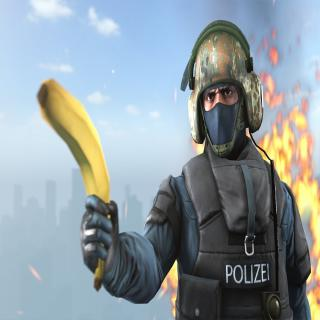CT-Body: (114, 14, 313, 320)
CT-Head: (186, 18, 260, 160)
